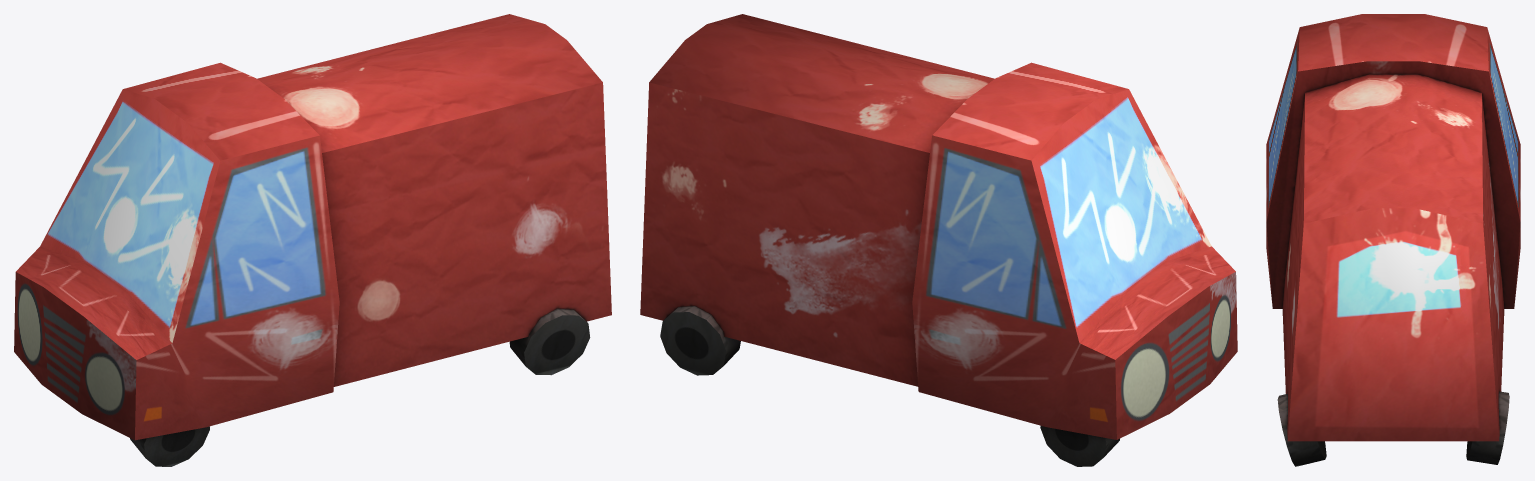
Rendered from camion.FBX.
3 renders of one model, left to right at view 1: azimuth 30°, elevation 25°; view 2: azimuth 150°, elevation 25°; view 3: azimuth 270°, elevation 25°, orthographic. The views are drawn at different scales.
Parts seen in each view (by area): view 1: camioncino; view 2: camioncino; view 3: camioncino.
Part boxes in pixels (x1,y1,x2,y2): camioncino: (14, 14, 611, 466); camioncino: (640, 14, 1237, 466); camioncino: (1266, 14, 1520, 466).
Bounding box in the file's own units: 25.13 × 14.91 × 11.64.
